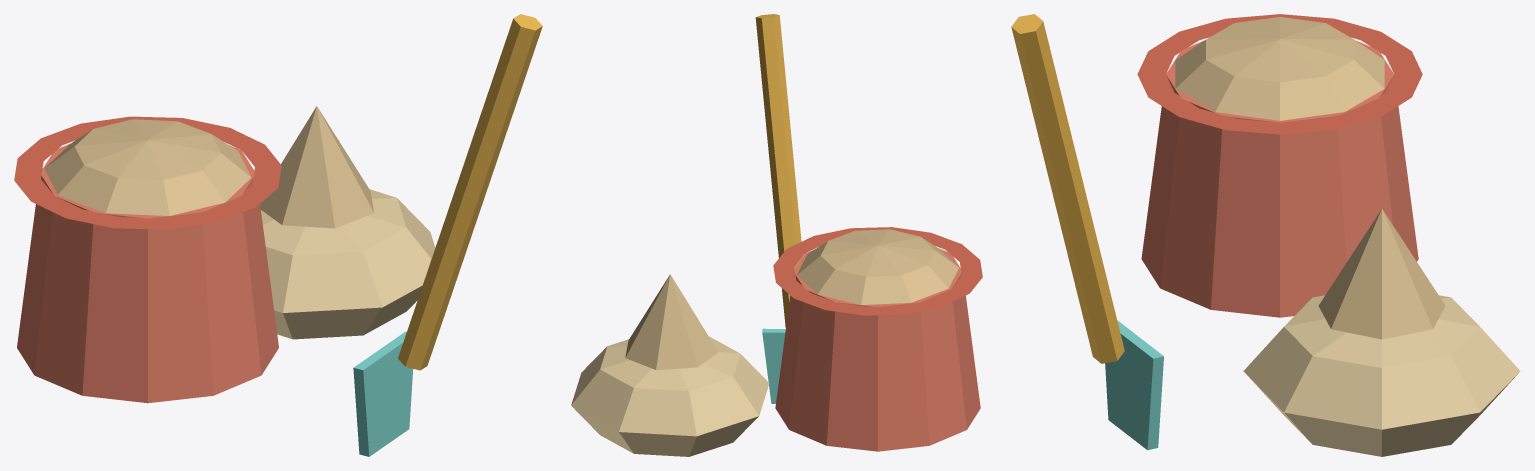
File: xy_beach_bucket.glb
3 views of the same model, side by side, from view 1: azimuth 30°, elevation 25°; view 2: azimuth 150°, elevation 25°; view 3: azimuth 270°, elevation 25° (orthographic). The views are drawn at different scales.
Parts seen in each view (by area): view 1: Bucket; view 2: Bucket; view 3: Bucket.
Part boxes in pixels (left/top/right/bottom): Bucket: left=14, top=14, right=542, bottom=456; Bucket: left=571, top=14, right=982, bottom=456; Bucket: left=1011, top=14, right=1520, bottom=456.
Bounding box in the file's own units: 1.34 × 1.25 × 1.25.
